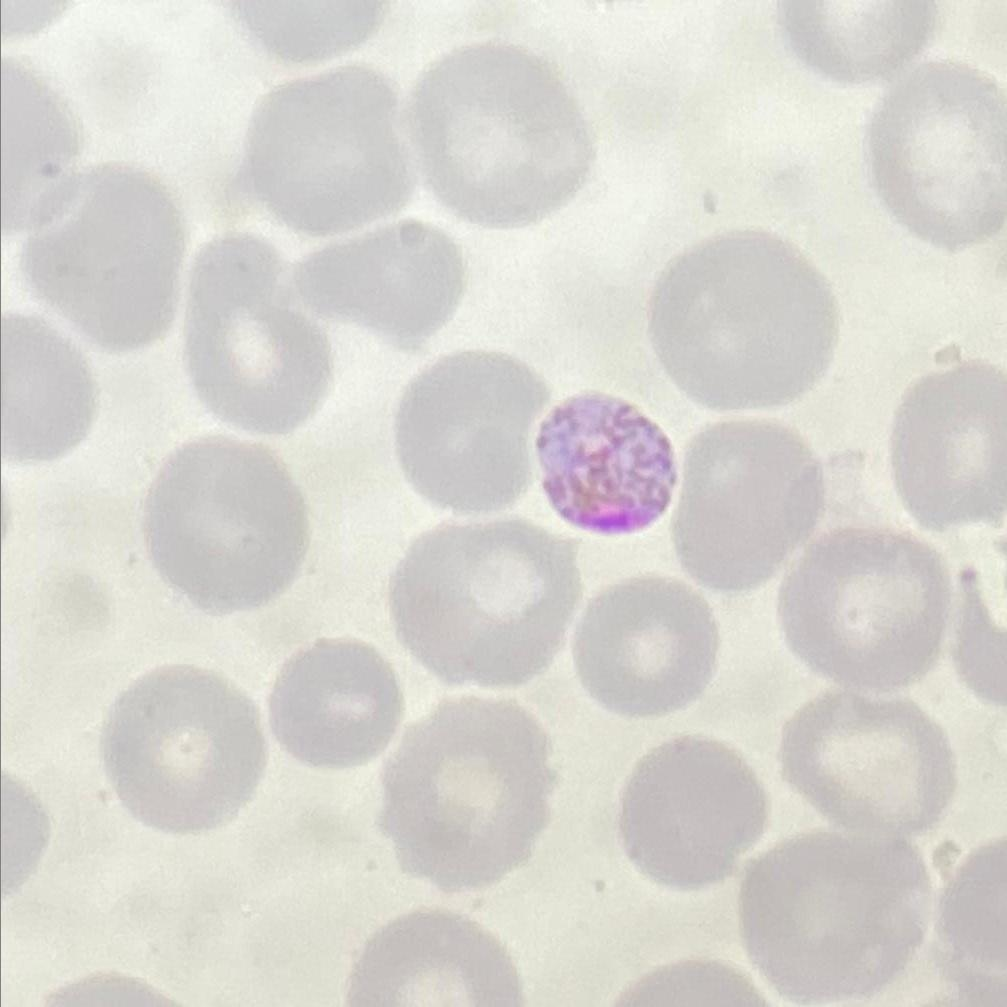Infected: (535, 386, 676, 536)
Uninfected: (407, 41, 589, 234), (380, 686, 558, 883), (655, 228, 842, 415), (390, 516, 581, 693), (142, 431, 318, 623), (737, 836, 929, 1007), (23, 166, 191, 354), (232, 66, 419, 226), (182, 228, 333, 425), (98, 663, 266, 835), (672, 416, 829, 588), (270, 216, 466, 351), (775, 691, 954, 836), (390, 348, 544, 513), (875, 61, 1007, 253), (782, 531, 939, 688), (618, 731, 763, 886), (892, 363, 1007, 541), (578, 576, 716, 715), (340, 906, 529, 1007), (267, 631, 399, 768), (0, 318, 101, 458)
